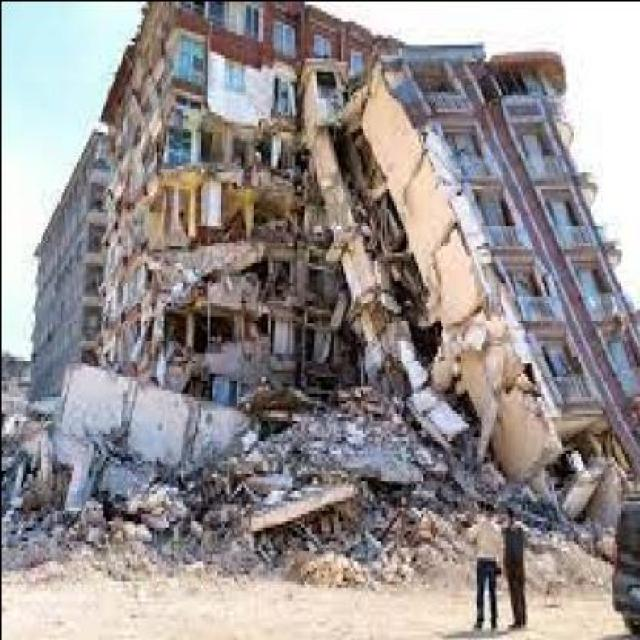Destroyed_building: (3, 2, 640, 634)
